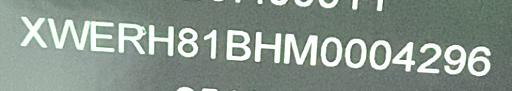letter: (282, 32, 322, 67), (48, 17, 90, 50), (222, 26, 254, 61), (147, 22, 179, 55), (252, 31, 284, 62), (18, 14, 48, 47), (116, 22, 146, 55), (416, 40, 444, 73), (442, 42, 470, 75), (343, 36, 371, 67), (468, 43, 494, 76), (318, 35, 344, 66), (392, 38, 418, 69), (368, 36, 392, 69), (90, 22, 114, 53), (176, 27, 200, 58), (198, 27, 220, 58)
